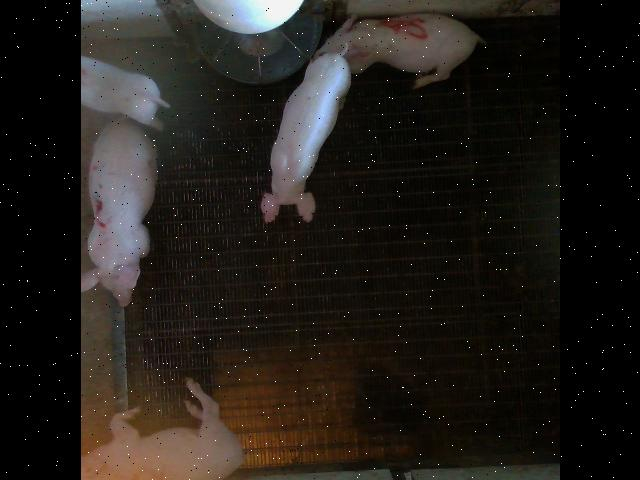pig-2: (81, 379, 241, 480)
pig-3: (81, 116, 156, 306)
pig-5: (315, 14, 484, 89)
